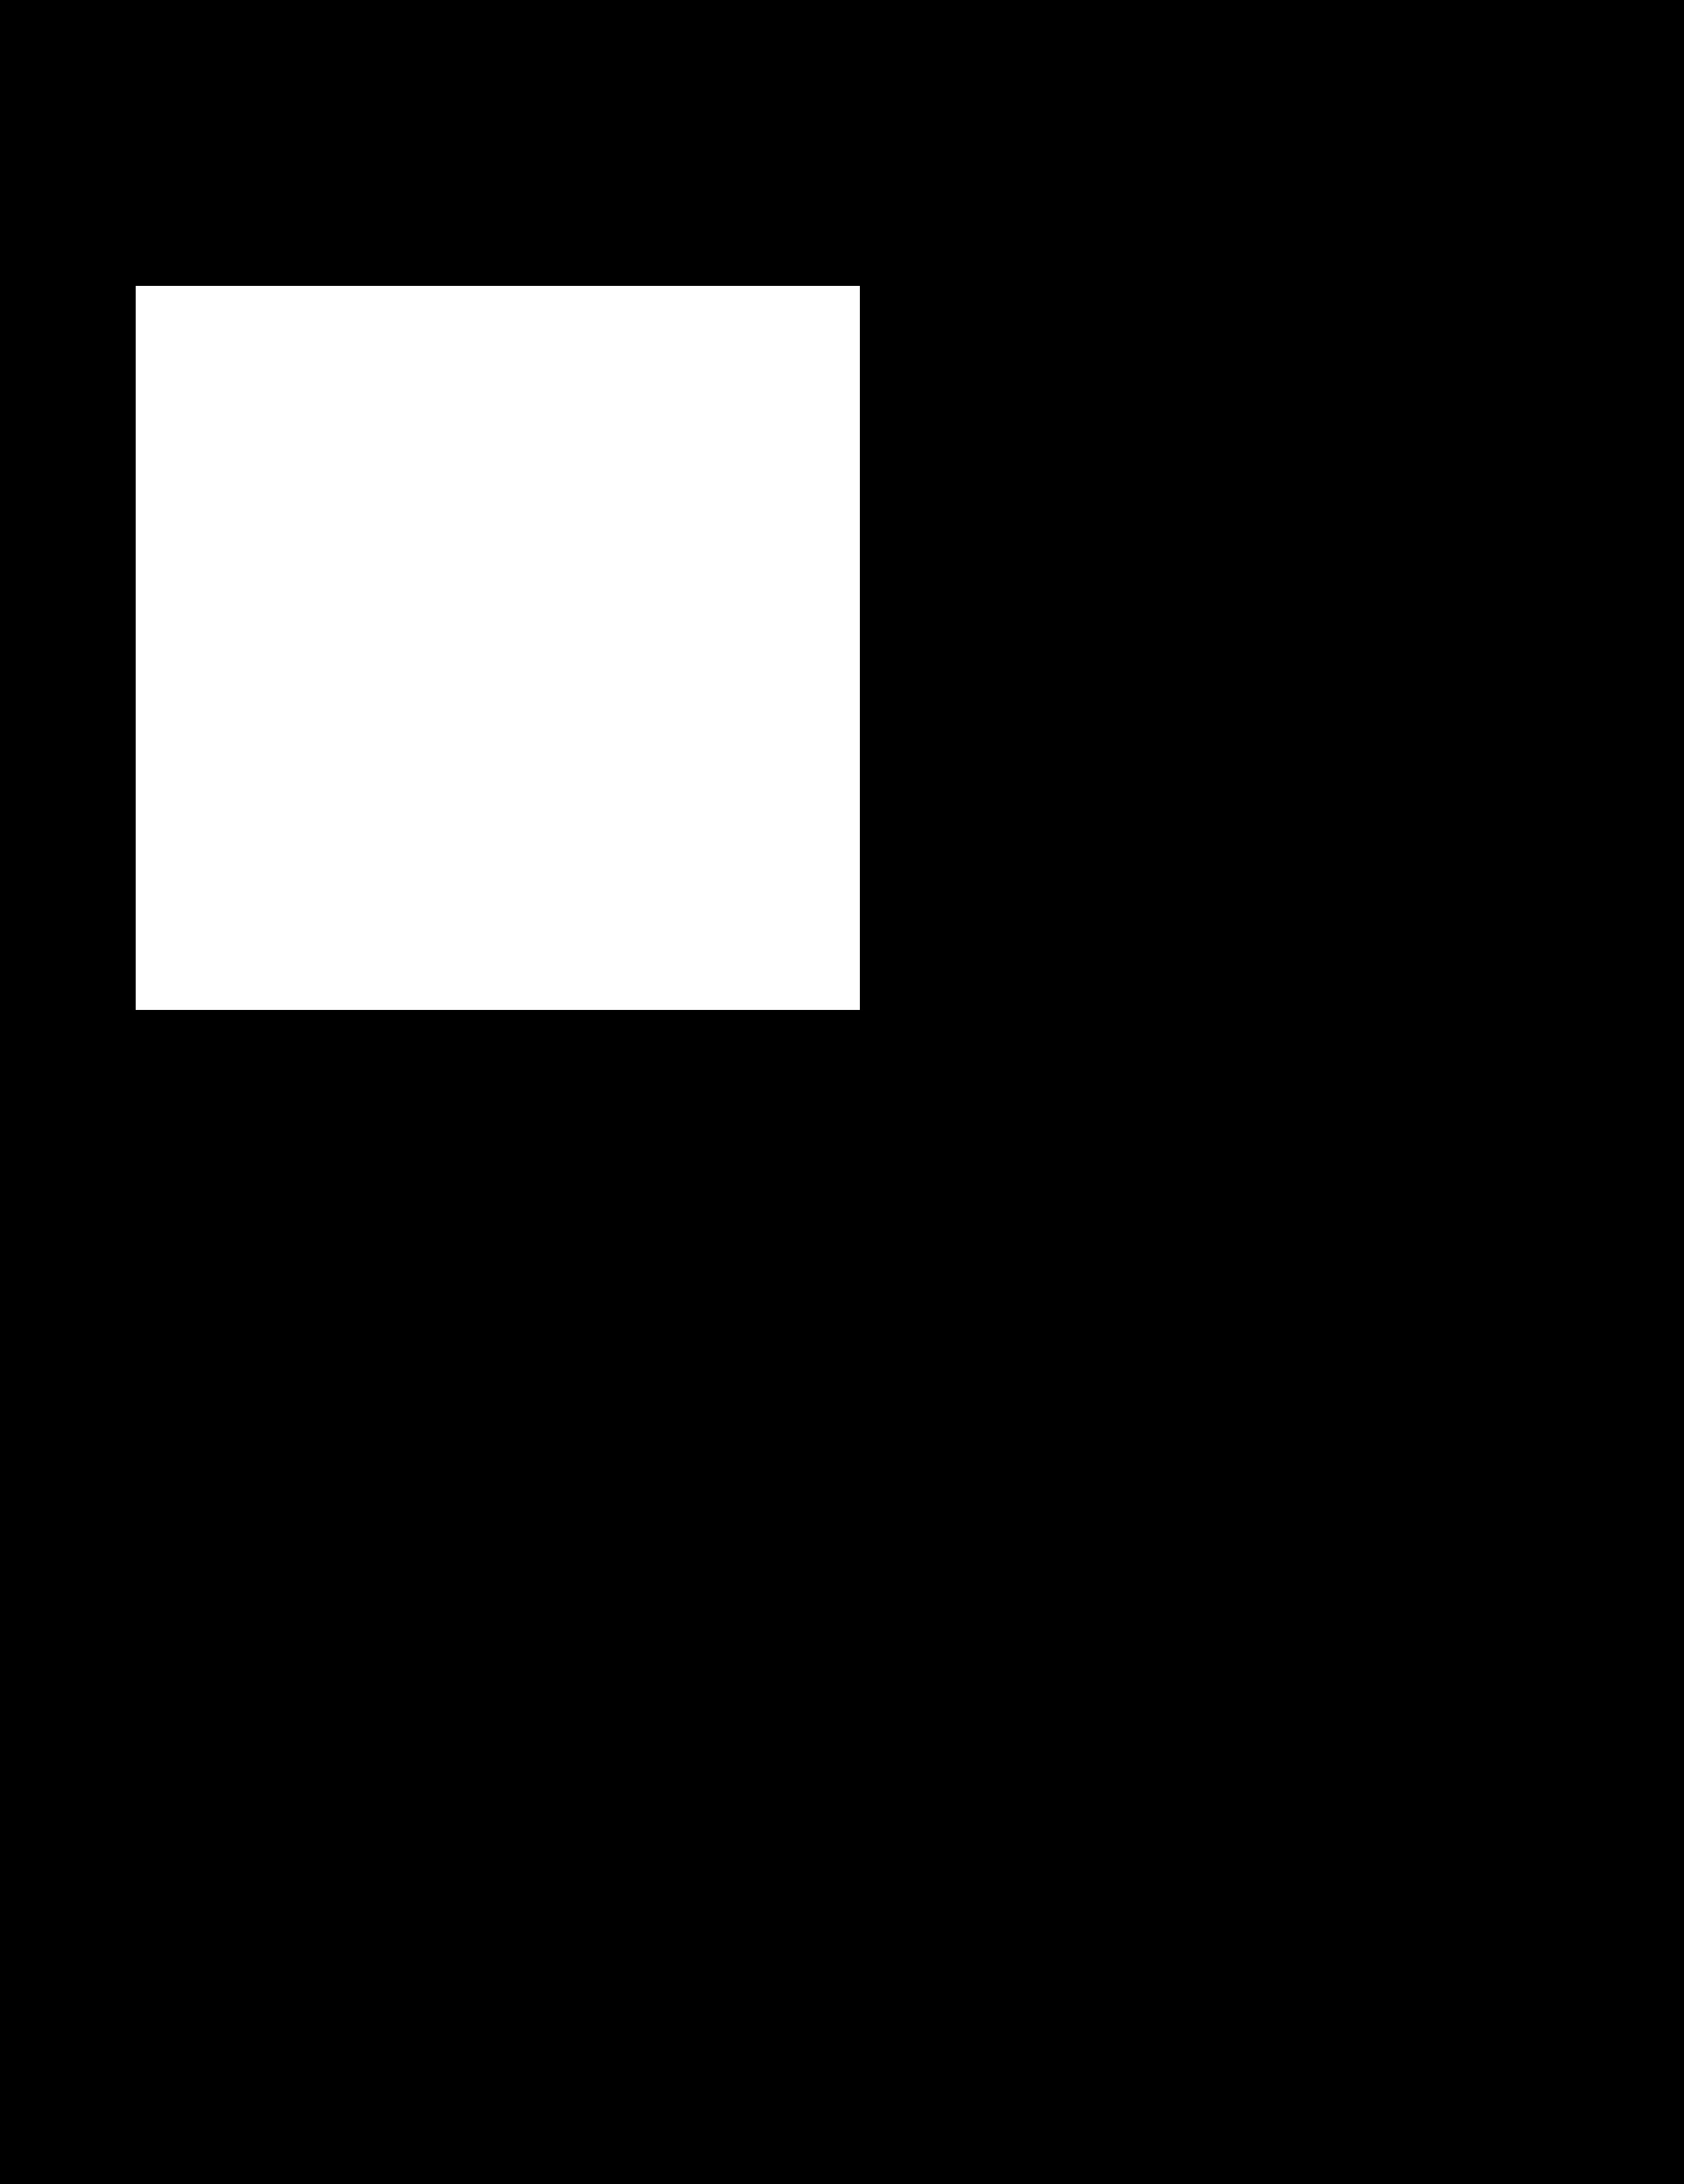table: (136, 286, 860, 1010)
